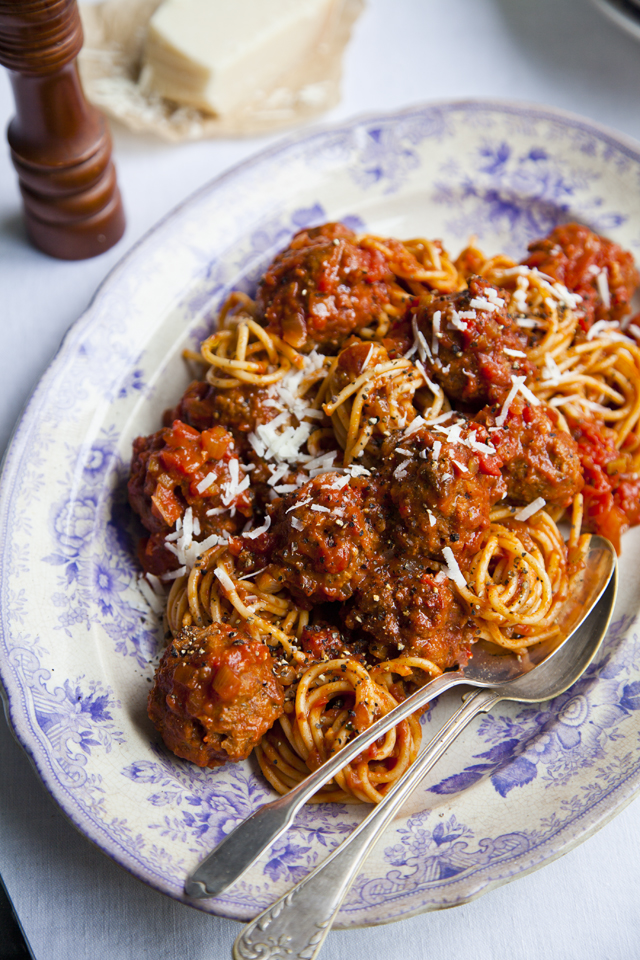meatballs: (270, 466, 501, 669), (410, 307, 573, 501), (153, 630, 273, 761), (262, 234, 388, 332), (137, 439, 246, 539)
plain spaghetti: (254, 640, 442, 809), (409, 512, 594, 672), (493, 260, 640, 429)
